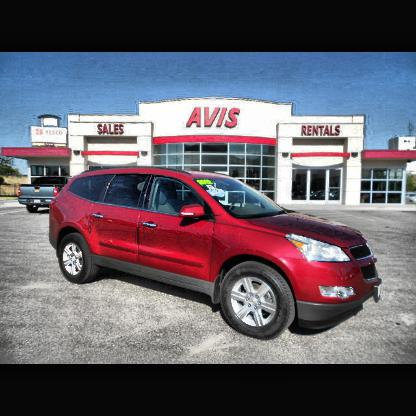Chevrolet Traverse SUV 2012: (47, 163, 386, 343)
